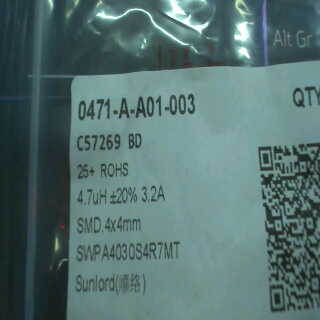4.7uH: (71, 184, 109, 210)
